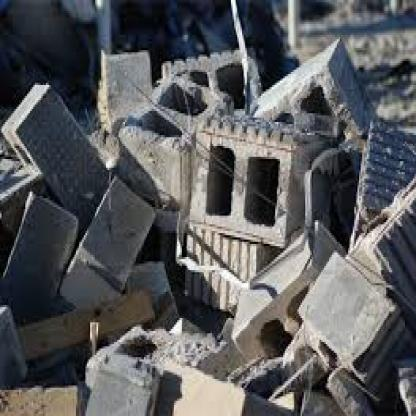brick: (2, 3, 414, 413)
